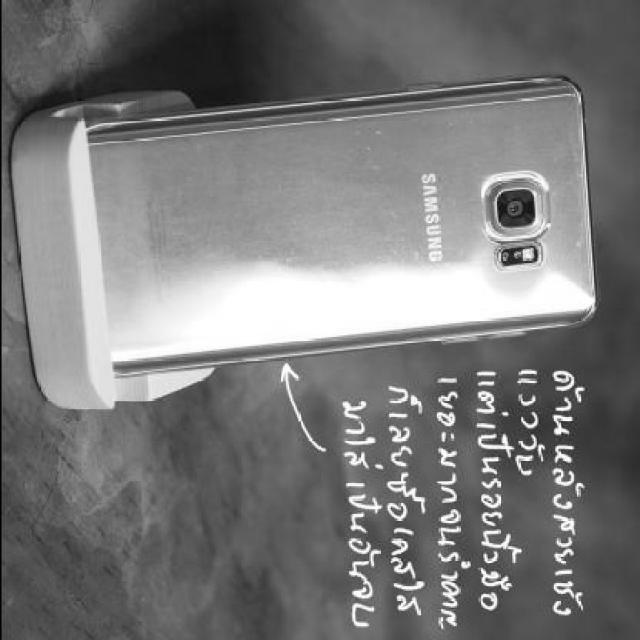fake: (85, 74, 598, 380)
